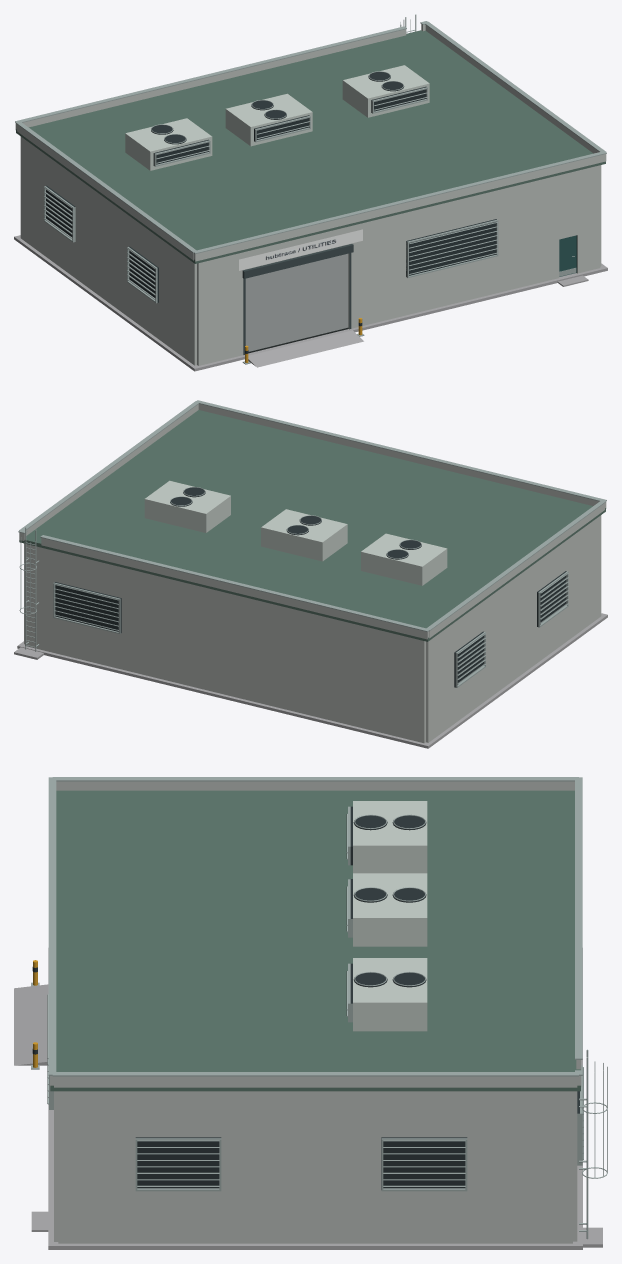
File: factory-utility-building.glb
The picture shows the model from 3 angles, top to bottom: view 1: azimuth 30°, elevation 25°; view 2: azimuth 150°, elevation 25°; view 3: azimuth 270°, elevation 25°; orthographic projection. The views are drawn at different scales.
Visible parts, largest first — view 1: utility_flat_roof_standing-seam-roof, utility_front_facade_light-precast-concrete, factory-utility-building_light-precast-concrete, utility_flat_roof_light-precast-concrete, shutter_utility-service-bay_brushed-metal-panels, utility_flat_roof_galvanized-steel, utility_flat_roof_insulated-light-cladding, factory-utility-building_cast-concrete, utility_flat_roof_dark-service-metal, utility_front_facade_dark-service-metal, factory-utility-building_galvanized-steel, utility_front_facade_galvanized-steel (+4 smaller); view 2: utility_flat_roof_standing-seam-roof, factory-utility-building_light-precast-concrete, utility_flat_roof_insulated-light-cladding, utility_flat_roof_light-precast-concrete, utility_flat_roof_galvanized-steel, factory-utility-building_galvanized-steel, factory-utility-building_dark-service-metal, factory-utility-building_cast-concrete, utility_flat_roof_dark-service-metal; view 3: utility_flat_roof_standing-seam-roof, factory-utility-building_light-precast-concrete, utility_flat_roof_insulated-light-cladding, utility_flat_roof_galvanized-steel, utility_flat_roof_light-precast-concrete, factory-utility-building_cast-concrete, factory-utility-building_dark-service-metal, factory-utility-building_galvanized-steel, utility_flat_roof_dark-service-metal, utility_front_facade_light-precast-concrete.
Boxes of the visible parts, x1,y1,x2,y2 form: utility_flat_roof_standing-seam-roof: (16,30,605,263); utility_front_facade_light-precast-concrete: (197,165,600,365); factory-utility-building_light-precast-concrete: (20,136,601,365); utility_flat_roof_light-precast-concrete: (15,24,606,261); shutter_utility-service-bay_brushed-metal-panels: (245,253,348,351); utility_flat_roof_galvanized-steel: (15,21,606,253); utility_flat_roof_insulated-light-cladding: (125,65,429,170); factory-utility-building_cast-concrete: (14,235,607,371); utility_flat_roof_dark-service-metal: (151,72,426,165); utility_front_facade_dark-service-metal: (406,219,496,276); factory-utility-building_galvanized-steel: (43,14,416,364); utility_front_facade_galvanized-steel: (406,219,498,277); utility_flat_roof_standing-seam-roof: (19,410,605,641); factory-utility-building_light-precast-concrete: (24,515,601,743); utility_flat_roof_insulated-light-cladding: (144,480,447,585); utility_flat_roof_light-precast-concrete: (19,404,606,639); utility_flat_roof_galvanized-steel: (18,400,606,631); factory-utility-building_galvanized-steel: (19,527,568,687); factory-utility-building_dark-service-metal: (54,571,566,687); factory-utility-building_cast-concrete: (14,613,607,748); utility_flat_roof_dark-service-metal: (170,487,421,559); utility_flat_roof_standing-seam-roof: (50,790,580,1091); factory-utility-building_light-precast-concrete: (58,1091,577,1243); utility_flat_roof_insulated-light-cladding: (353,801,427,1031); utility_flat_roof_galvanized-steel: (48,777,582,1076); utility_flat_roof_light-precast-concrete: (50,781,581,1087); factory-utility-building_cast-concrete: (14,948,602,1249); factory-utility-building_dark-service-metal: (32,967,579,1189); factory-utility-building_galvanized-steel: (31,982,607,1239); utility_flat_roof_dark-service-metal: (350,806,426,1003); utility_front_facade_light-precast-concrete: (54,1091,58,1241).
Bounding box in the file's own units: 24.74 × 7.51 × 20.77.
3 materials, 3 textured.
